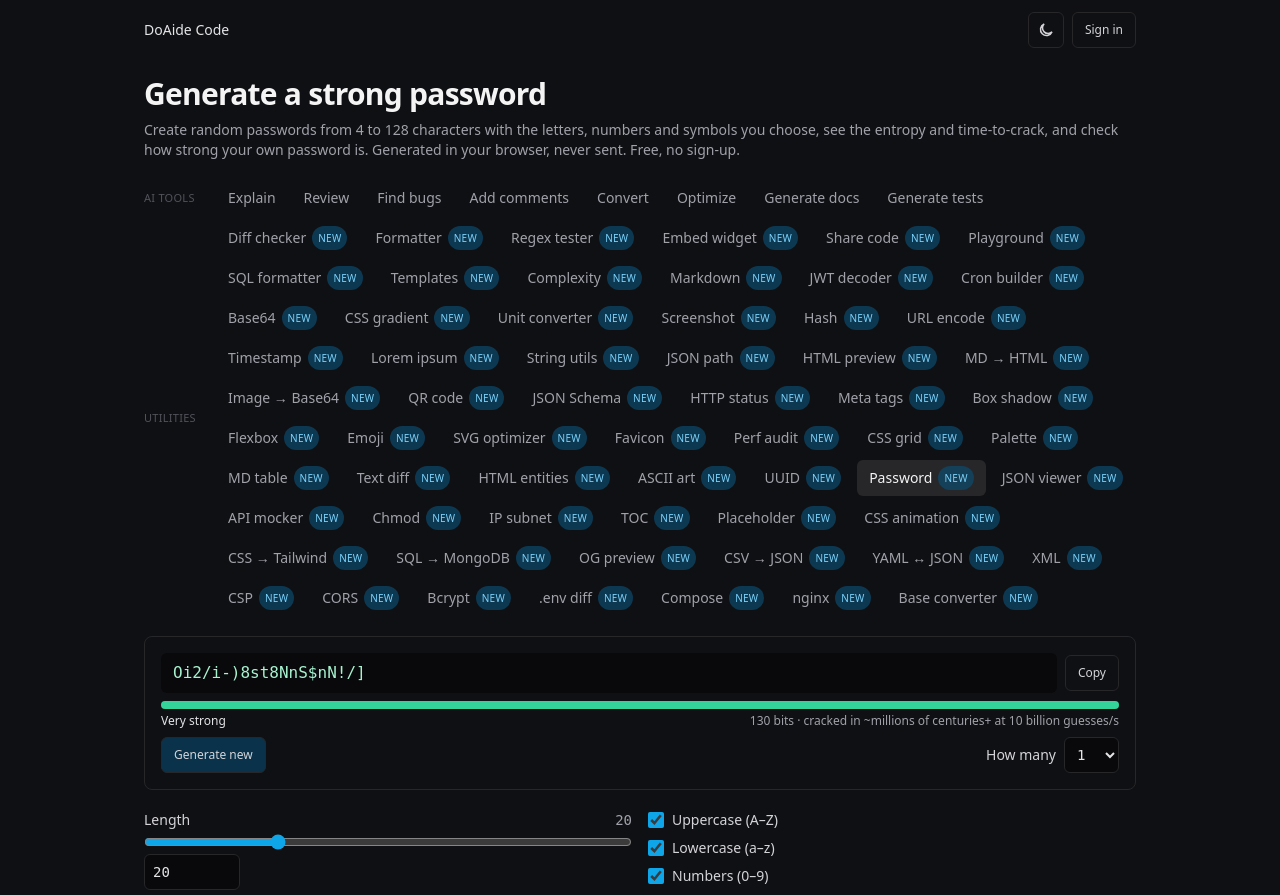
Test: PasswordPage › warns when every set is off
The image size is (1280, 895).
Click the checkbox labelled "Uppercase (A–Z)".
click(656, 820)  # box [648, 812, 664, 828]
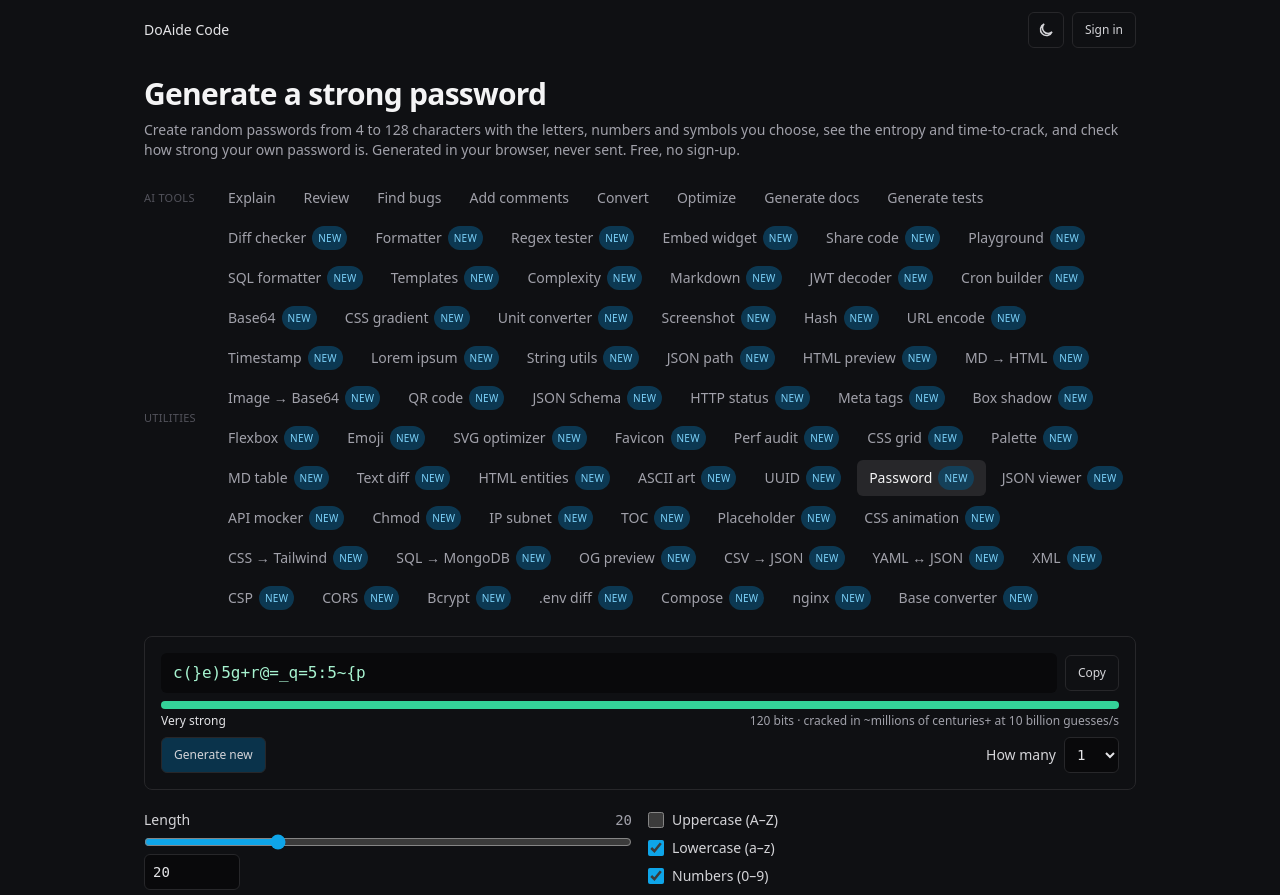
Click the checkbox labelled "Lowercase (a–z)".
click(656, 848)  # box [648, 840, 664, 856]
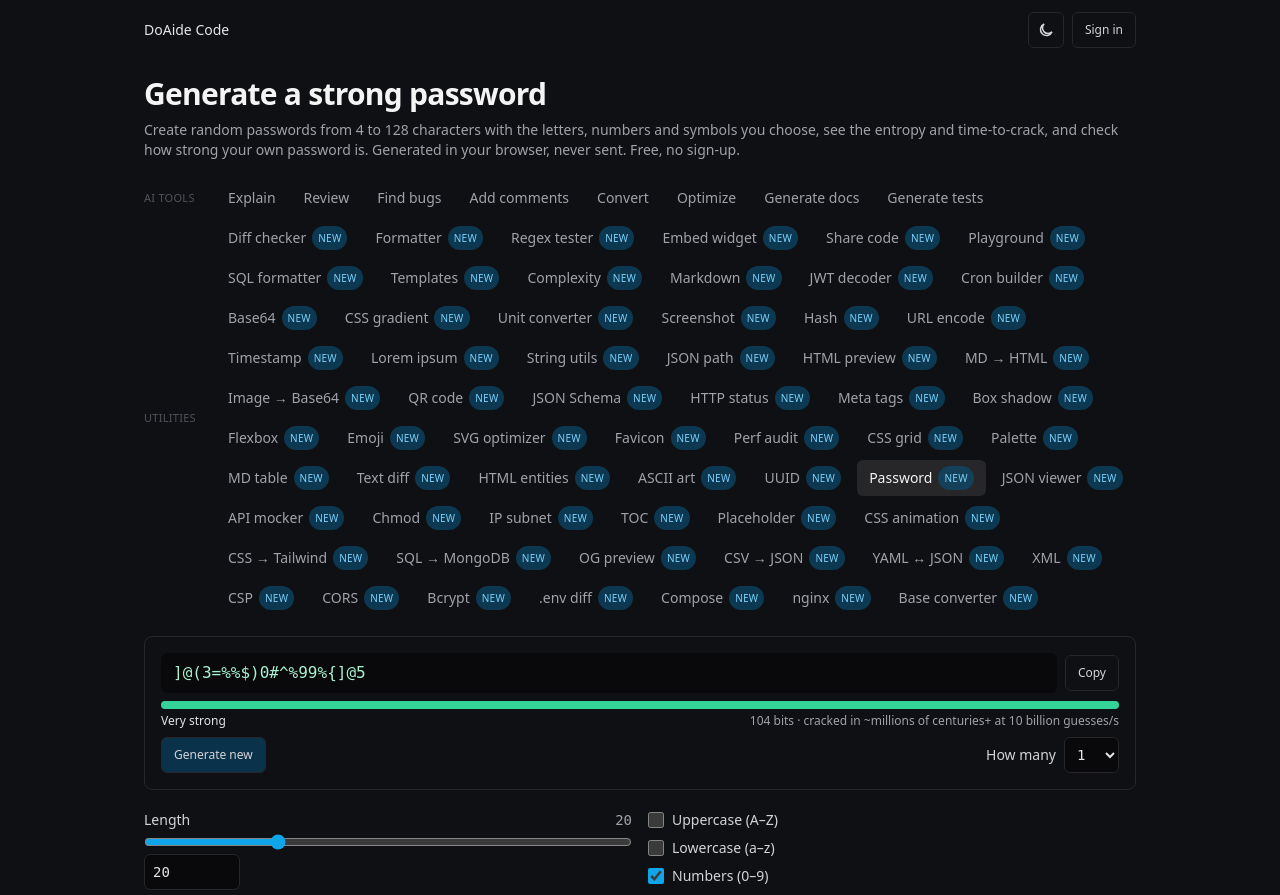
Click the checkbox labelled "Numbers (0–9)".
click(656, 876)  # box [648, 868, 664, 884]
(page scrolled)
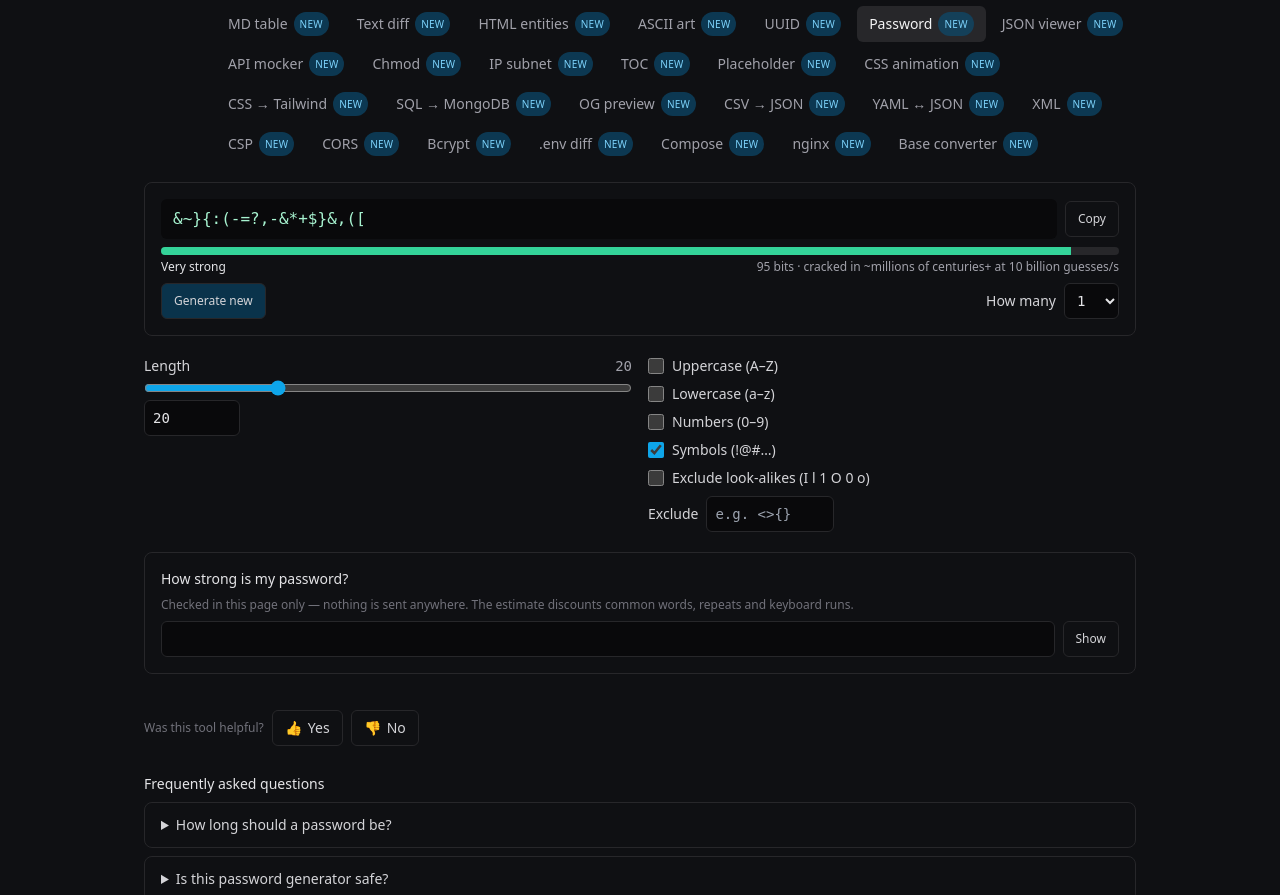
Click the checkbox with test id "password-symbols".
click(656, 450)  # box [648, 442, 664, 458]
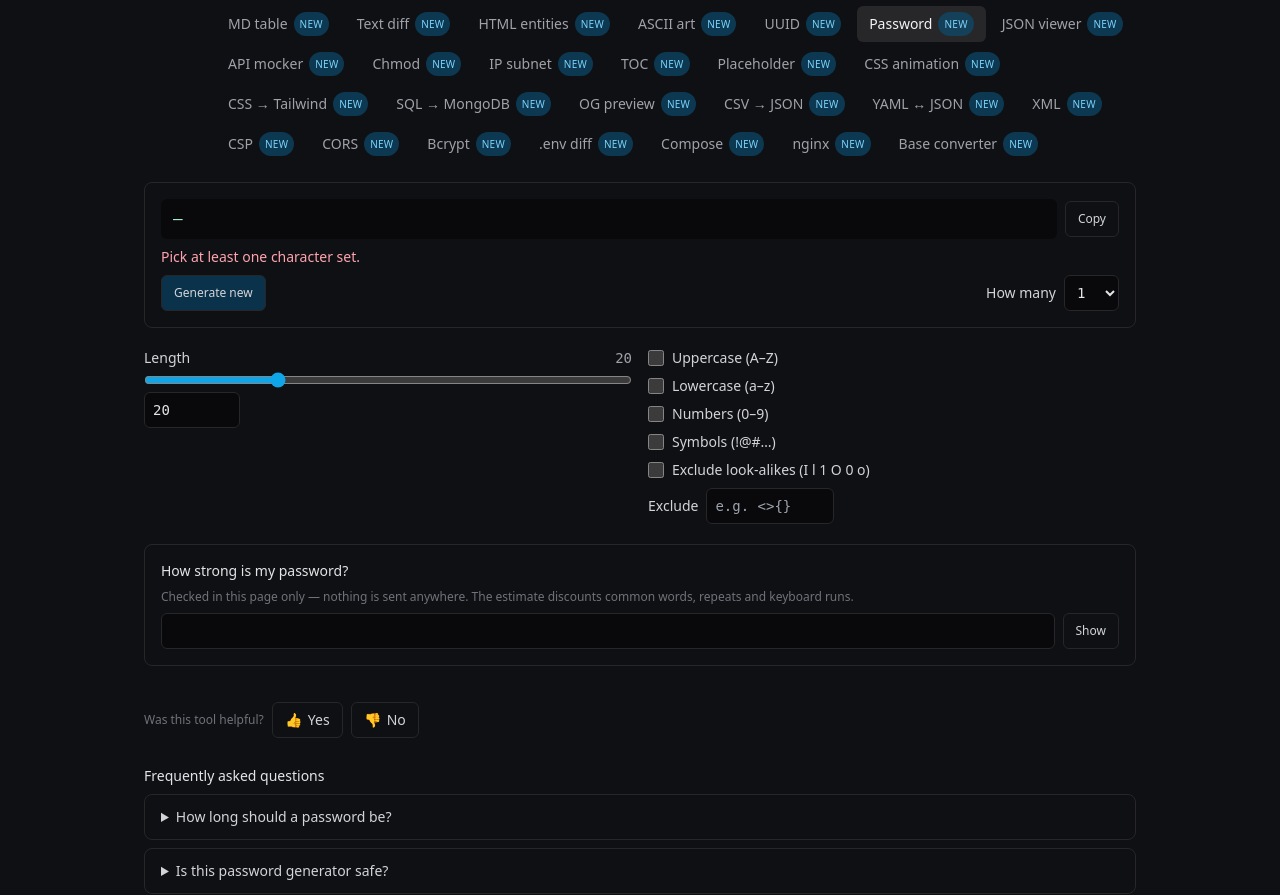
Expected: the message shows "at least one", [161, 247, 360, 266]
